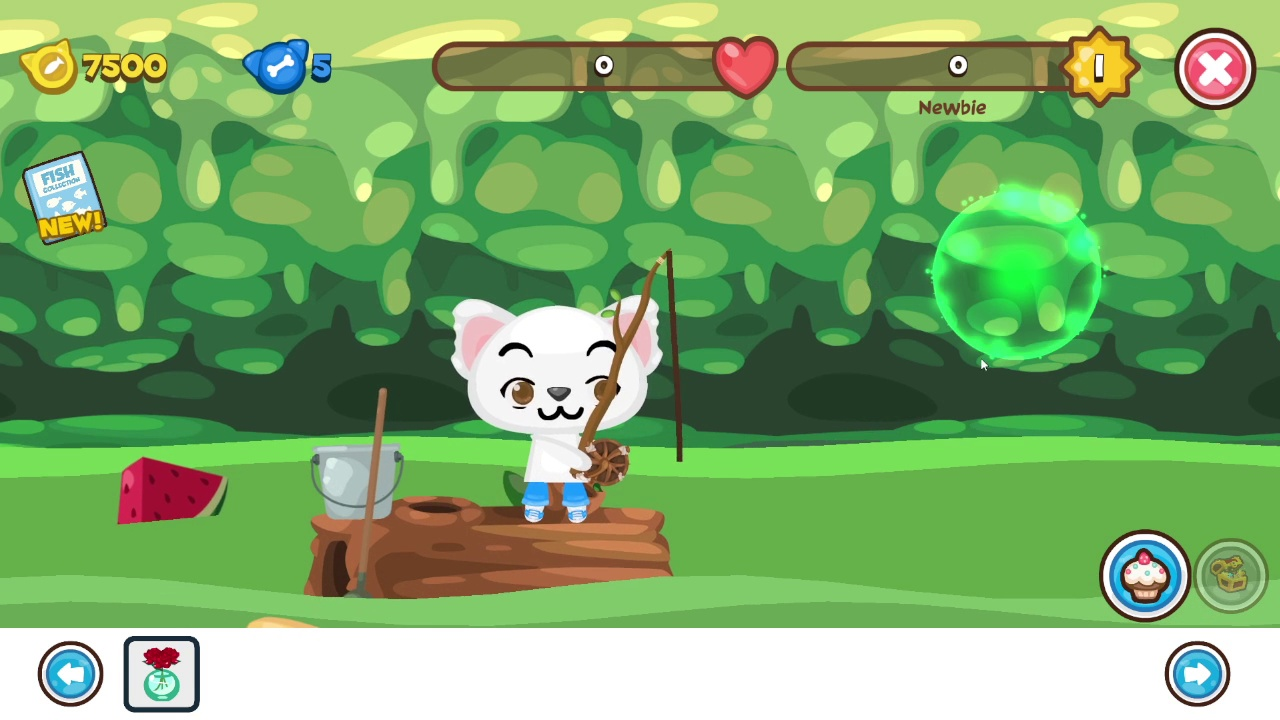point: (932, 193, 1103, 359)
